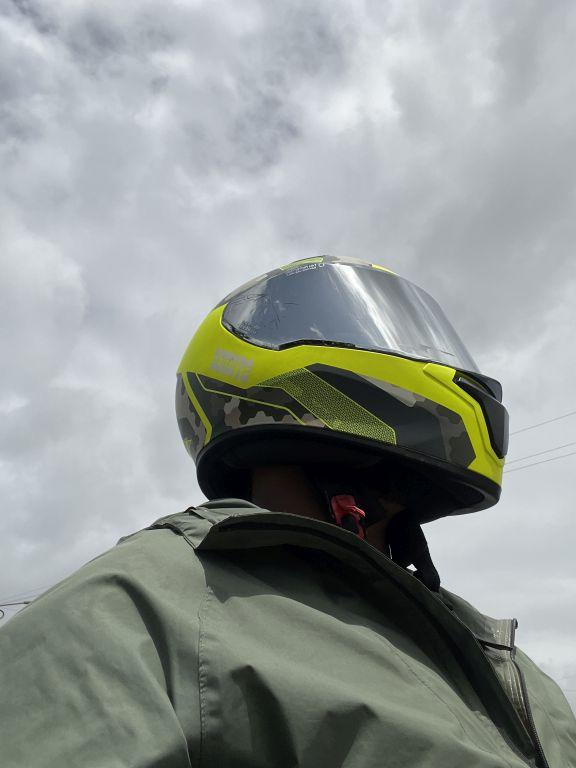helmet: (164, 235, 529, 542)
